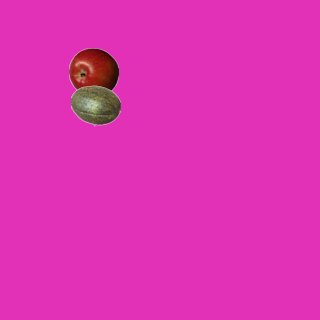Apple Braeburn: (68, 47, 118, 97)
Melon Piel de Sapo: (70, 80, 120, 130)
